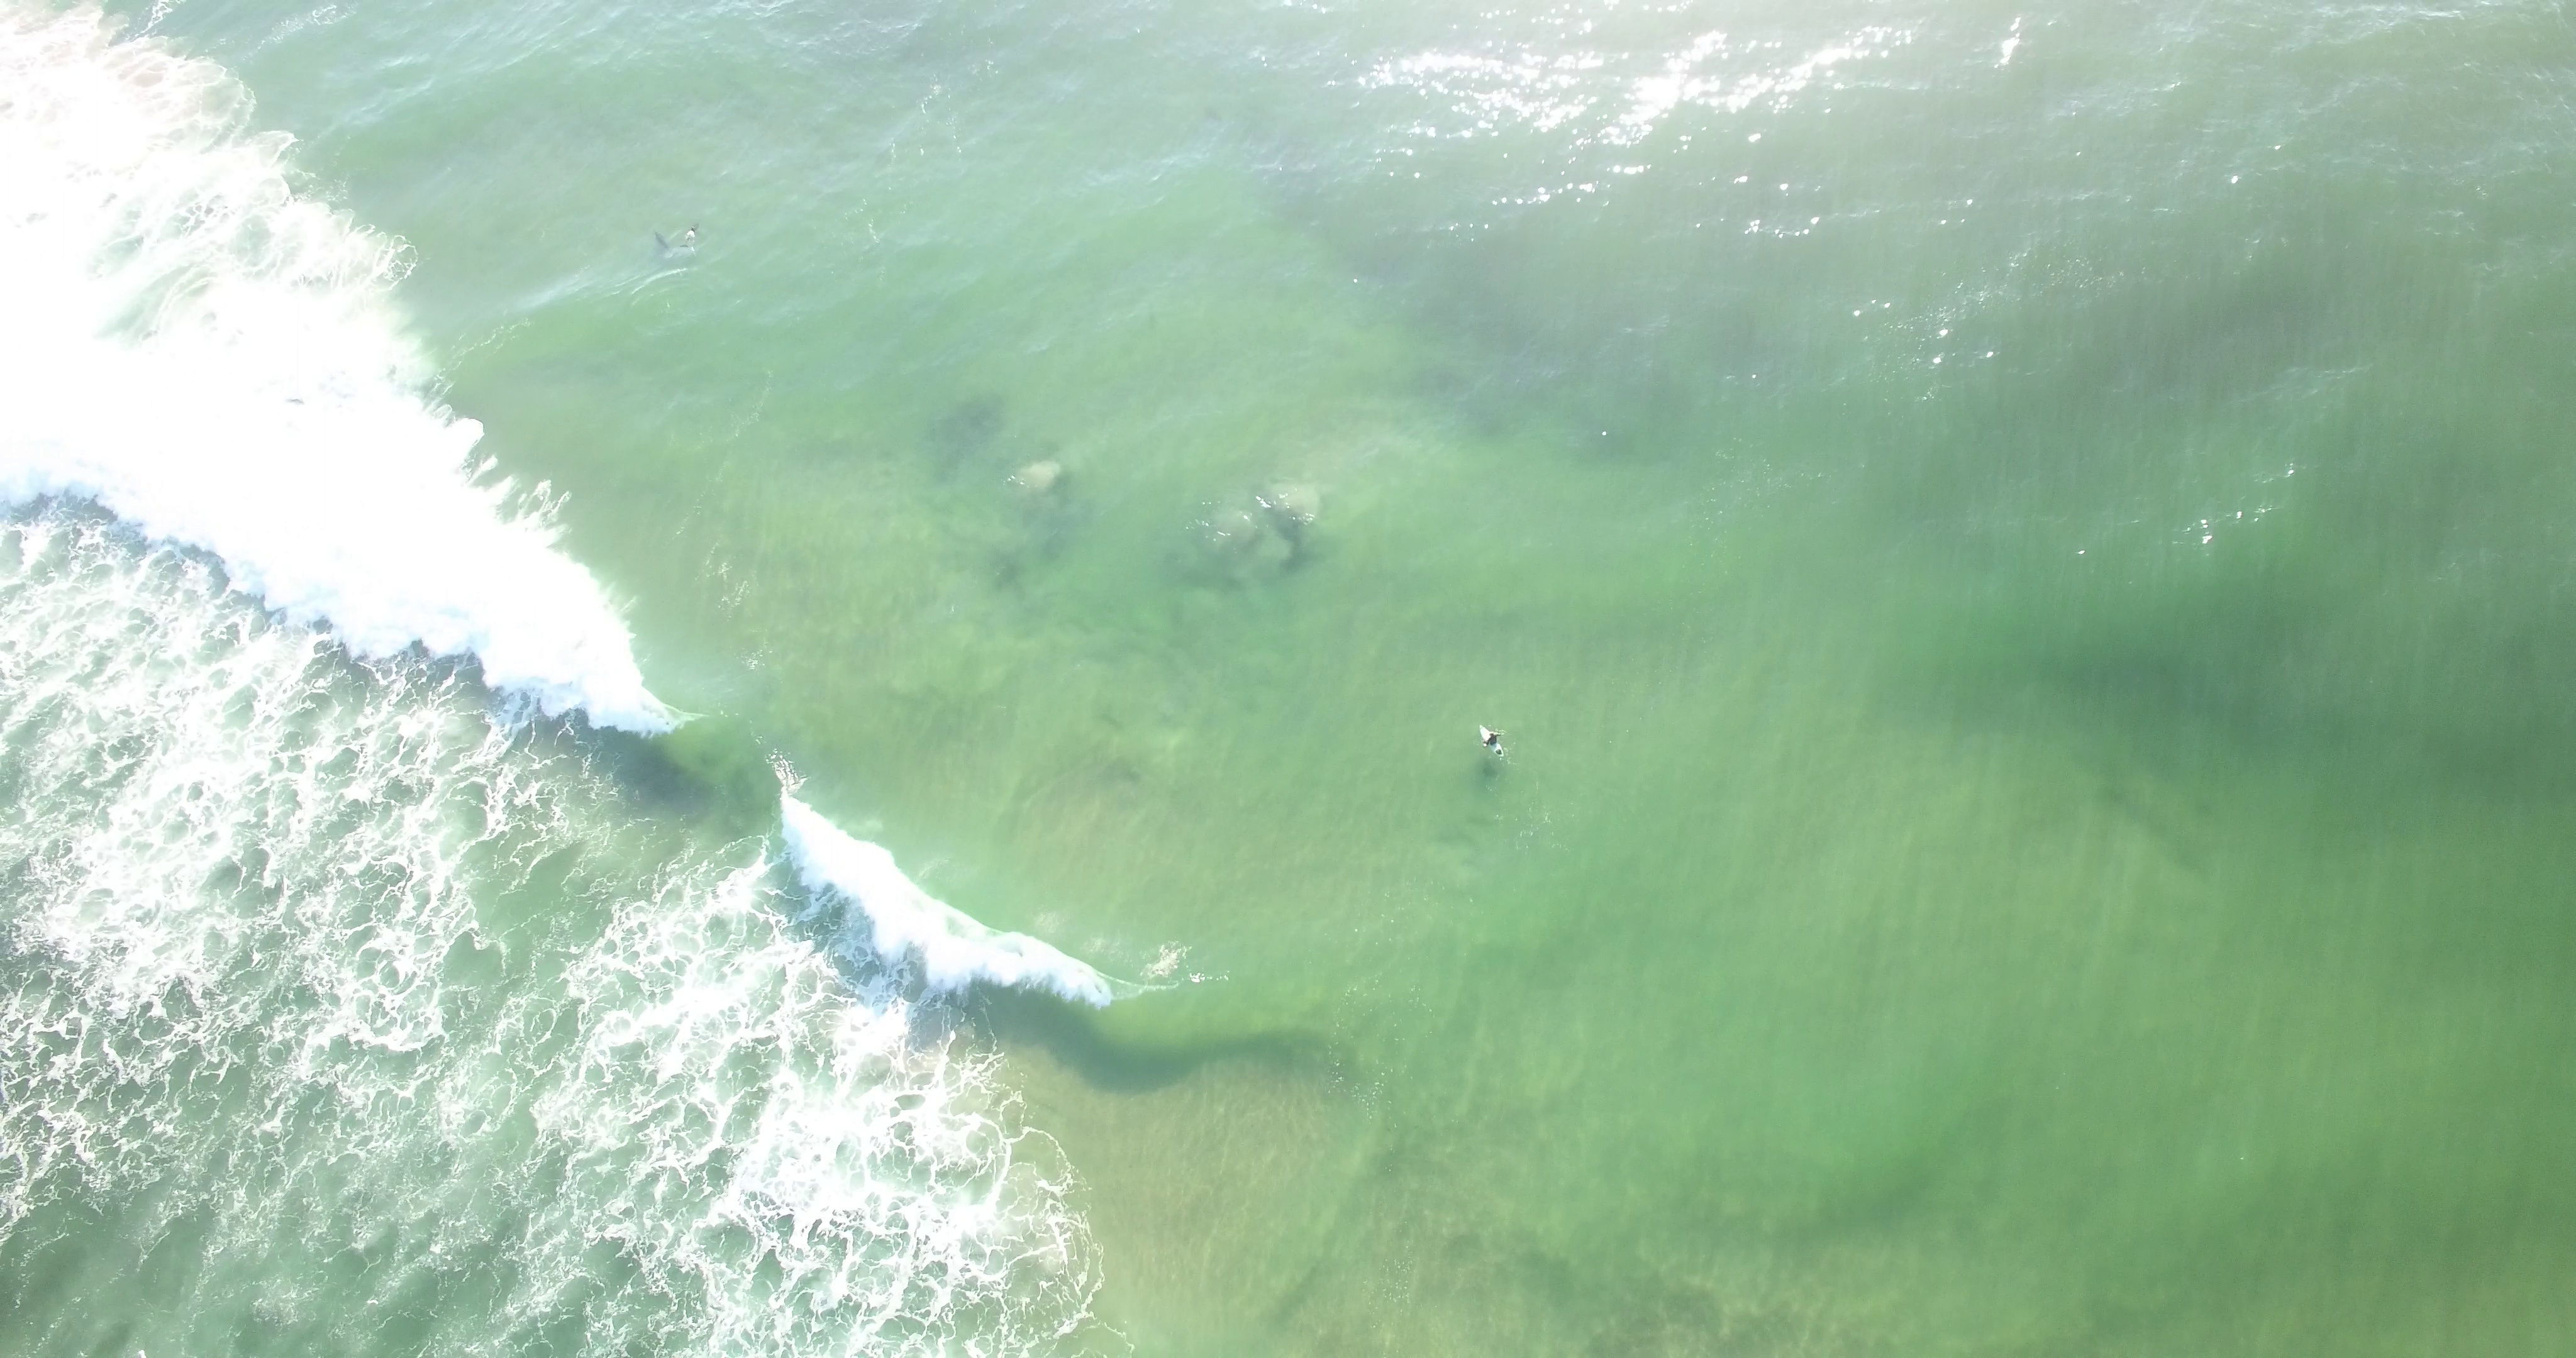dolphin: (675, 223, 700, 254), (653, 228, 673, 257)
surfer: (1475, 722, 1506, 760)
